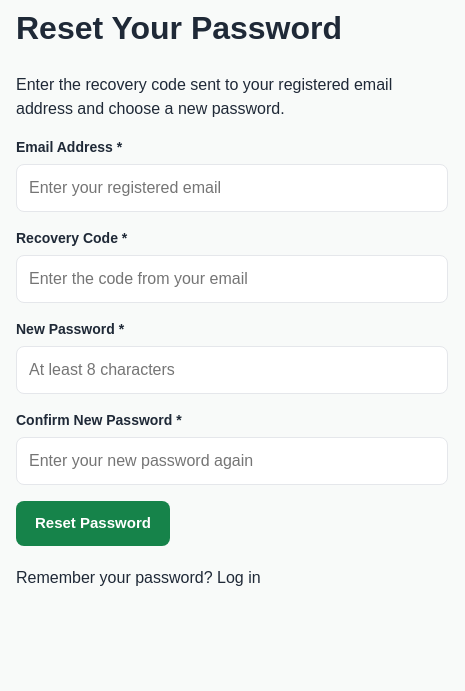
Test case: ResetPassword › rejects passwords that do not match
This screenshot has width=465, height=691.
In the field with placeholder "Enter your registered email": (232, 188) x1=16 y1=164 x2=448 y2=212, type "user@example.com"
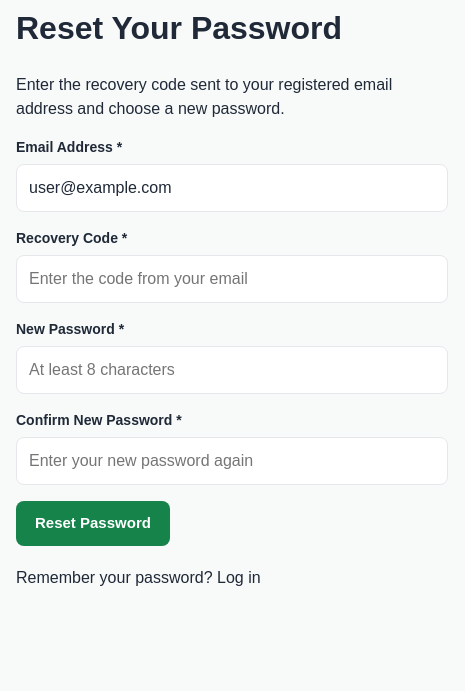
In the field with placeholder "Enter the code from your email": (232, 279) x1=16 y1=255 x2=448 y2=303, type "test-recovery-code"
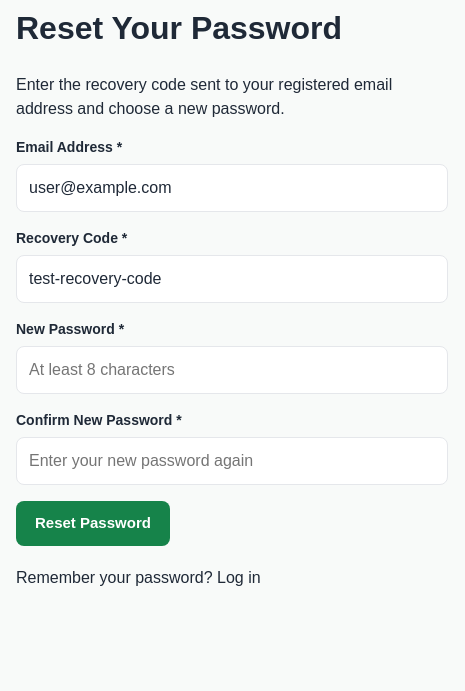
In the password field with placeholder "At least 8 characters": (232, 370) x1=16 y1=346 x2=448 y2=394, type "NewPassword123!"
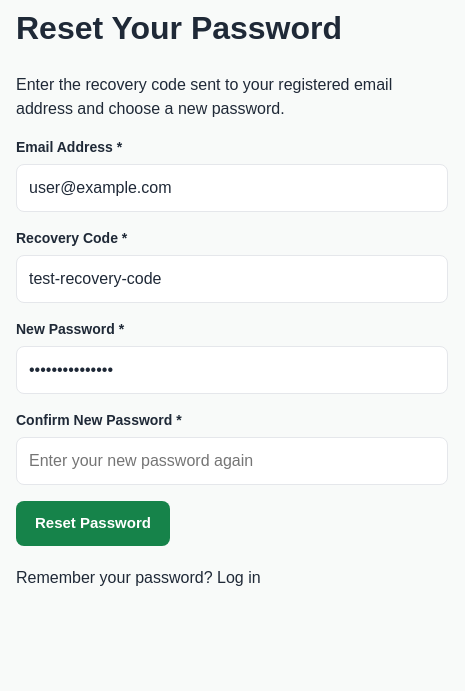
In the password field with placeholder "Enter your new password again": (232, 461) x1=16 y1=437 x2=448 y2=485, type "NewPassword123!"
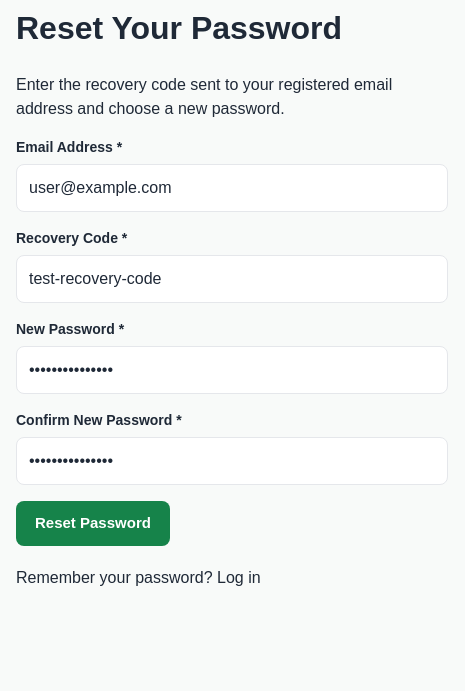
In the password field with placeholder "Enter your new password again": (232, 461) x1=16 y1=437 x2=448 y2=485, type "DifferentPassword123!"
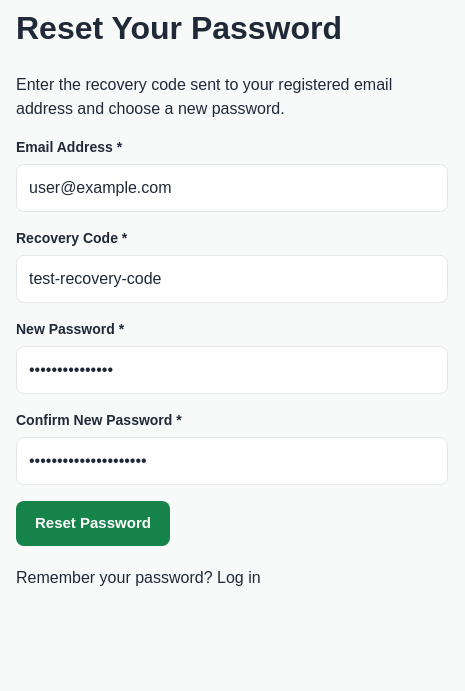
Click the button "Reset Password": (93, 524) x1=16 y1=501 x2=170 y2=546
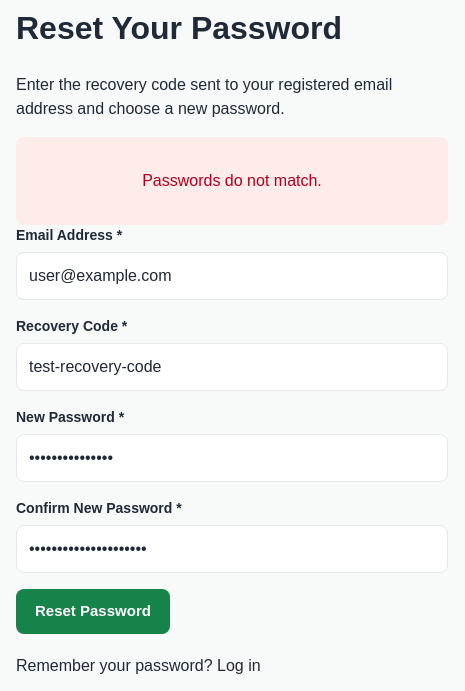
Expected: the message reads "Passwords do not match.", x1=142 y1=172 x2=322 y2=189
